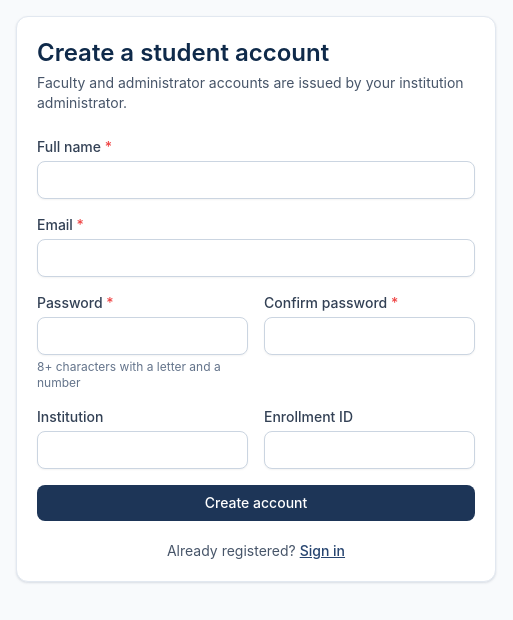
Test: authentication UI › reports a duplicate email on the email field
In the field labelled "Full name *": (256, 180) 37,161 -> 475,199, type "Asha Verma"
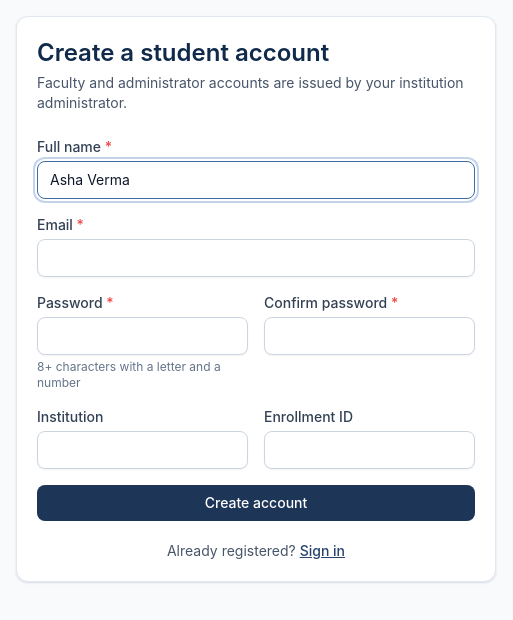
In the field labelled "Email *": (256, 258) 37,239 -> 475,277, type "asha@law.edu"
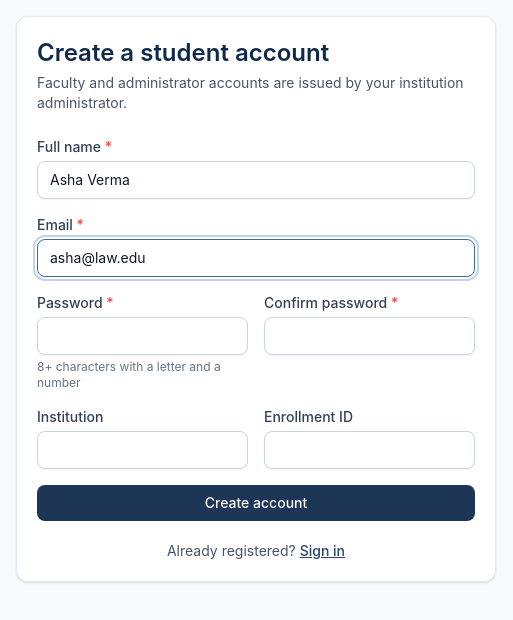
In the password field labelled "Password *": (142, 336) 37,317 -> 248,355, type "Str0ngPass1"
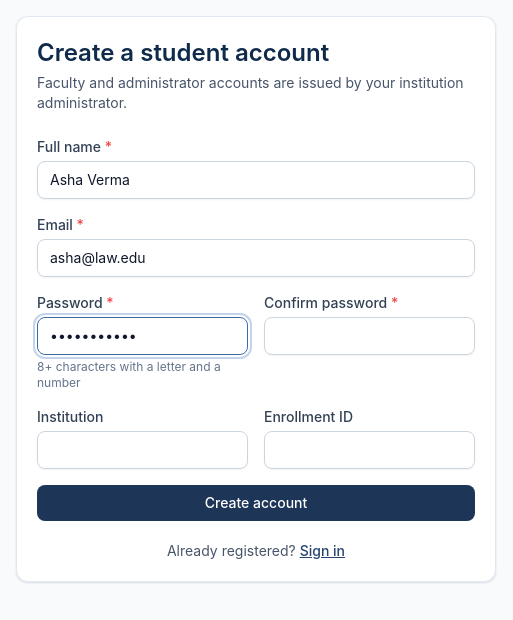
In the password field labelled "Confirm password *": (370, 336) 264,317 -> 475,355, type "Str0ngPass1"
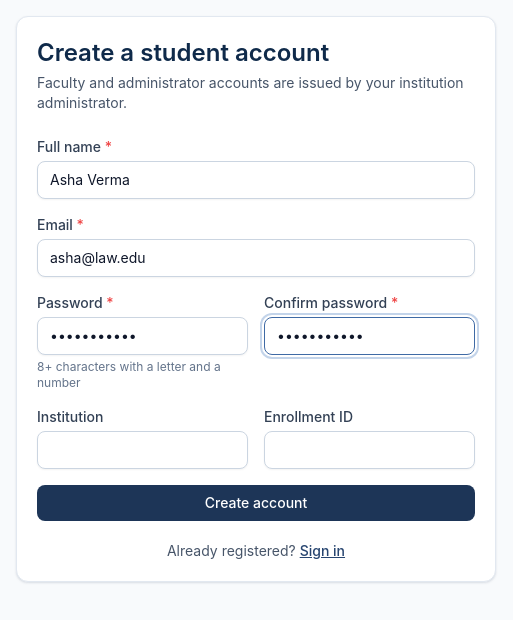
Click the button "Create account": (256, 503) 37,485 -> 475,521
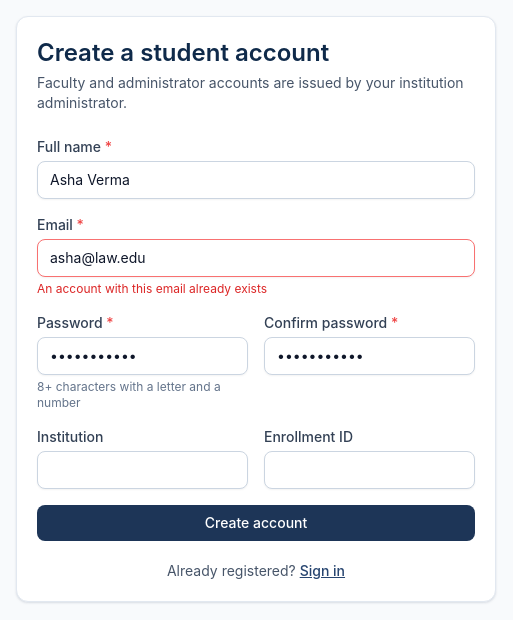
expect the text "An account with this email already exists" is shown: met, box 37,281 -> 267,296
